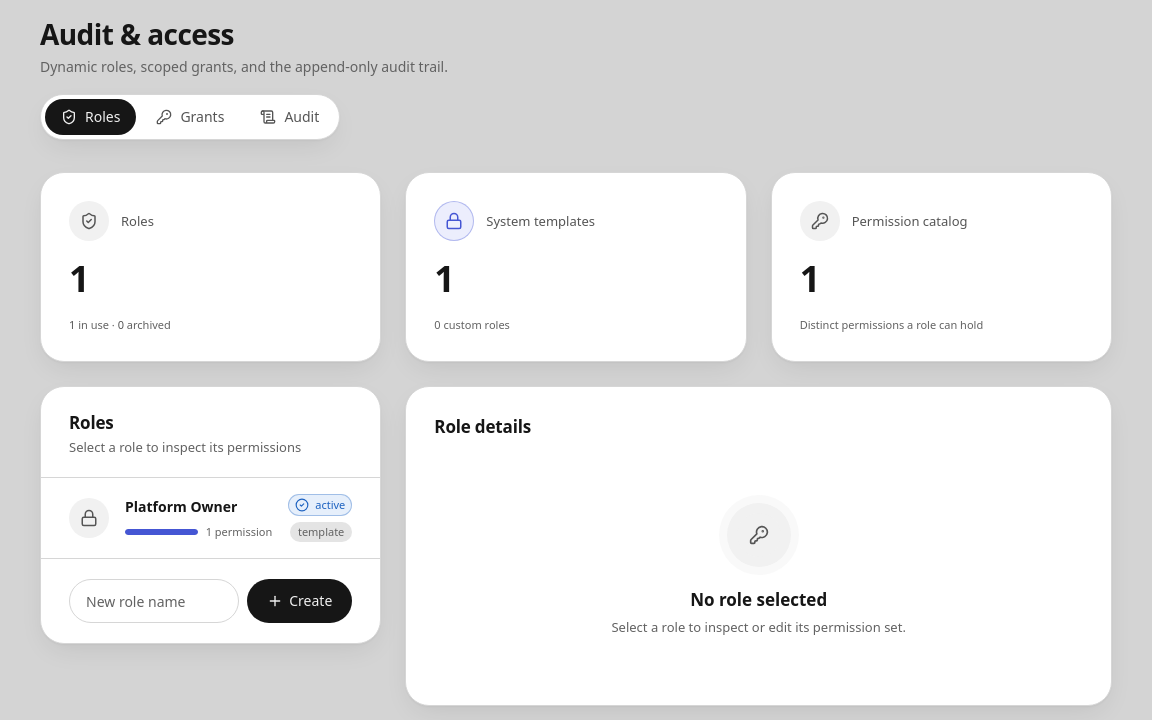
Test: Access Control page › renders roles and the permission matrix for rbac.manage
Expected: the list with test id "role-list" is shown, [41,478,380,558]
Expected: the tab "Audit" is shown, [244,99,335,135]
Click the text "Platform Owner": (181, 506) [125,497,237,516]
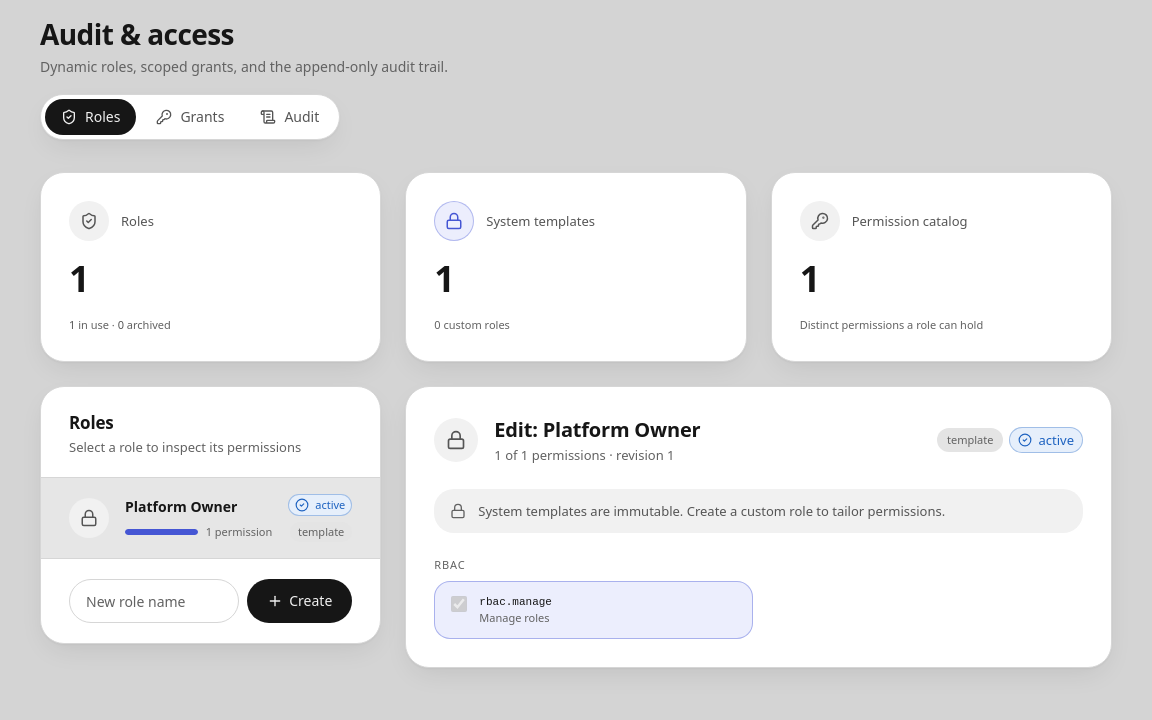
Result: the element with test id "permission-matrix" is shown at [433,557,753,639]
Result: the text "System templates are immutable" is shown at [478,502,945,520]
